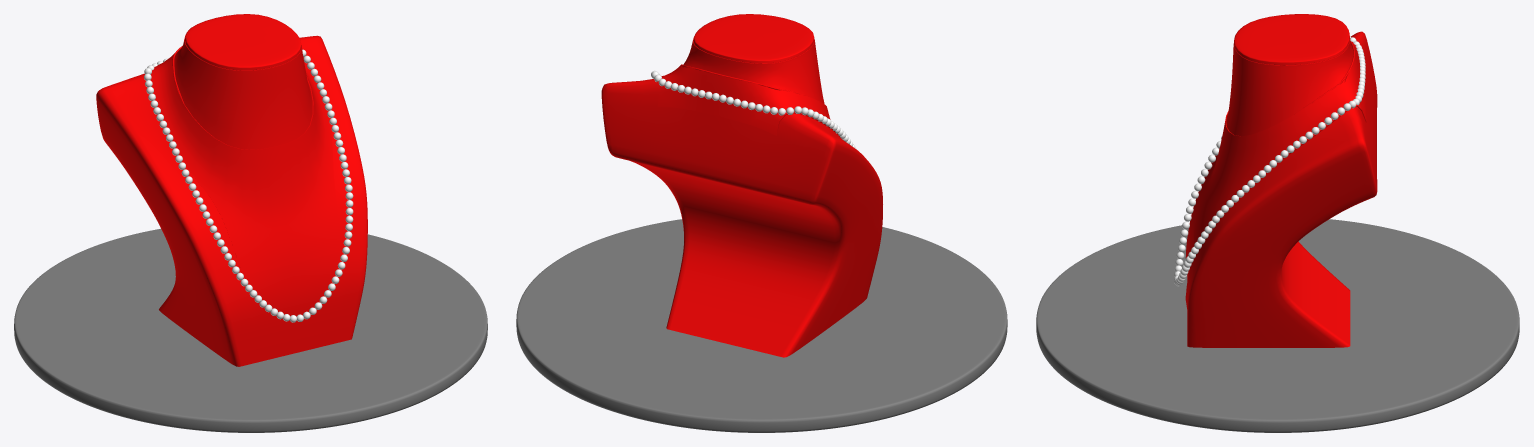
The model's file is pearls.fbx.
The picture shows the model from 3 angles, left to right: view 1: azimuth 30°, elevation 25°; view 2: azimuth 150°, elevation 25°; view 3: azimuth 270°, elevation 25°; orthographic projection. The views are drawn at different scales.
Parts seen in each view (by area): view 1: Circle001, maneken_mini001, maneken_mini, pearls; view 2: Circle001, maneken_mini001, maneken_mini, pearls; view 3: Circle001, maneken_mini001, maneken_mini, pearls.
Part boxes in pixels (left/top/right/bottom): Circle001: left=14, top=228, right=487, bottom=432; maneken_mini001: left=96, top=14, right=367, bottom=366; maneken_mini: left=150, top=49, right=340, bottom=274; pearls: left=144, top=49, right=353, bottom=322; Circle001: left=516, top=219, right=1007, bottom=432; maneken_mini001: left=601, top=14, right=882, bottom=357; maneken_mini: left=657, top=65, right=839, bottom=136; pearls: left=651, top=70, right=856, bottom=149; Circle001: left=1036, top=219, right=1519, bottom=432; maneken_mini001: left=1185, top=14, right=1377, bottom=347; maneken_mini: left=1193, top=42, right=1366, bottom=243; pearls: left=1174, top=36, right=1365, bottom=286.
Bounding box in the file's own units: 13.18 × 8.9 × 13.18.
